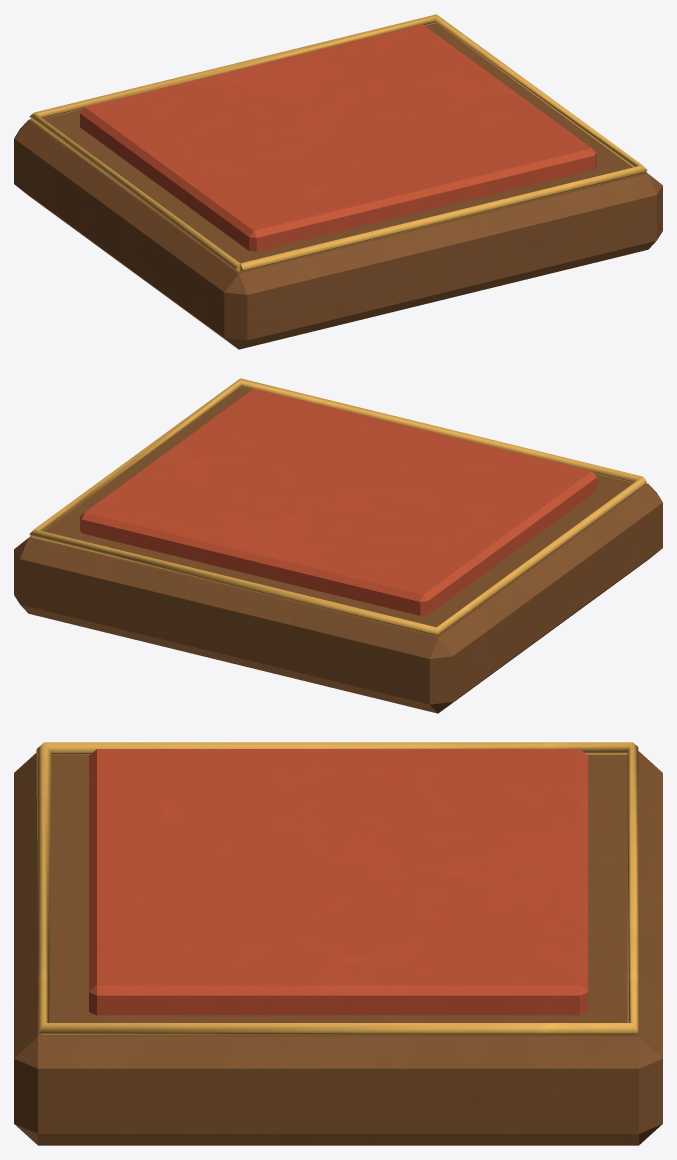
The model's file is tool_ink_pad.glb.
The picture shows the model from 3 angles, top to bottom: view 1: azimuth 30°, elevation 25°; view 2: azimuth 150°, elevation 25°; view 3: azimuth 270°, elevation 25°; orthographic projection. The views are drawn at different scales.
Visible parts, largest first — view 1: tool_ink_pad__red_cushion, tool_ink_pad__tray, tool_ink_pad__rim; view 2: tool_ink_pad__red_cushion, tool_ink_pad__tray, tool_ink_pad__rim; view 3: tool_ink_pad__red_cushion, tool_ink_pad__tray, tool_ink_pad__rim.
Boxes of the visible parts, left/top/right/bottom form: tool_ink_pad__red_cushion: left=80, top=24, right=596, bottom=251; tool_ink_pad__tray: left=14, top=23, right=662, bottom=349; tool_ink_pad__rim: left=29, top=14, right=647, bottom=271; tool_ink_pad__red_cushion: left=80, top=388, right=596, bottom=615; tool_ink_pad__tray: left=14, top=387, right=662, bottom=713; tool_ink_pad__rim: left=29, top=378, right=646, bottom=635; tool_ink_pad__red_cushion: left=89, top=749, right=587, bottom=1015; tool_ink_pad__tray: left=14, top=751, right=662, bottom=1145; tool_ink_pad__rim: left=36, top=742, right=638, bottom=1034.
Bounding box in the file's own units: 0.29 × 0.06 × 0.26.
Materials: 3 (3 with a texture image).
